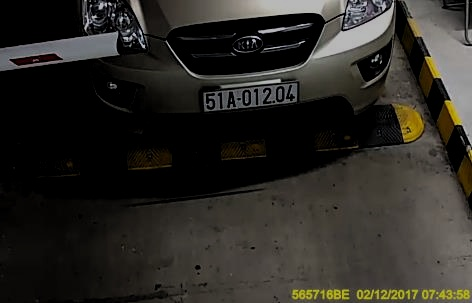plate: (199, 81, 303, 110)
